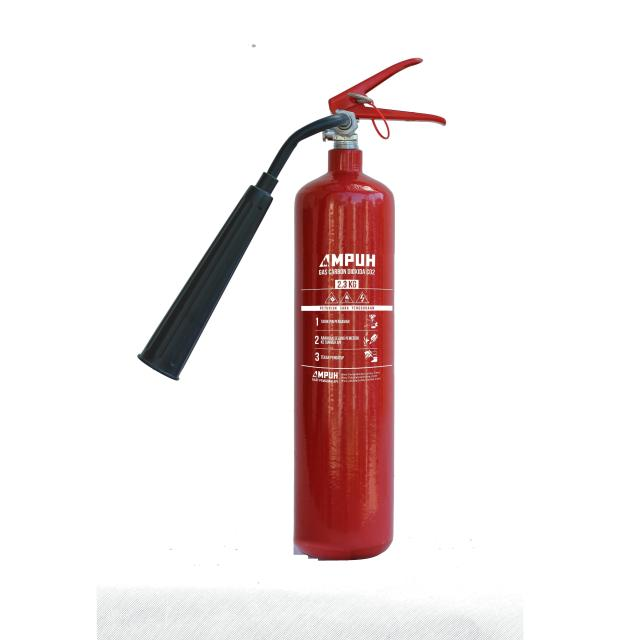fire_extinguisher: (133, 52, 453, 564)
